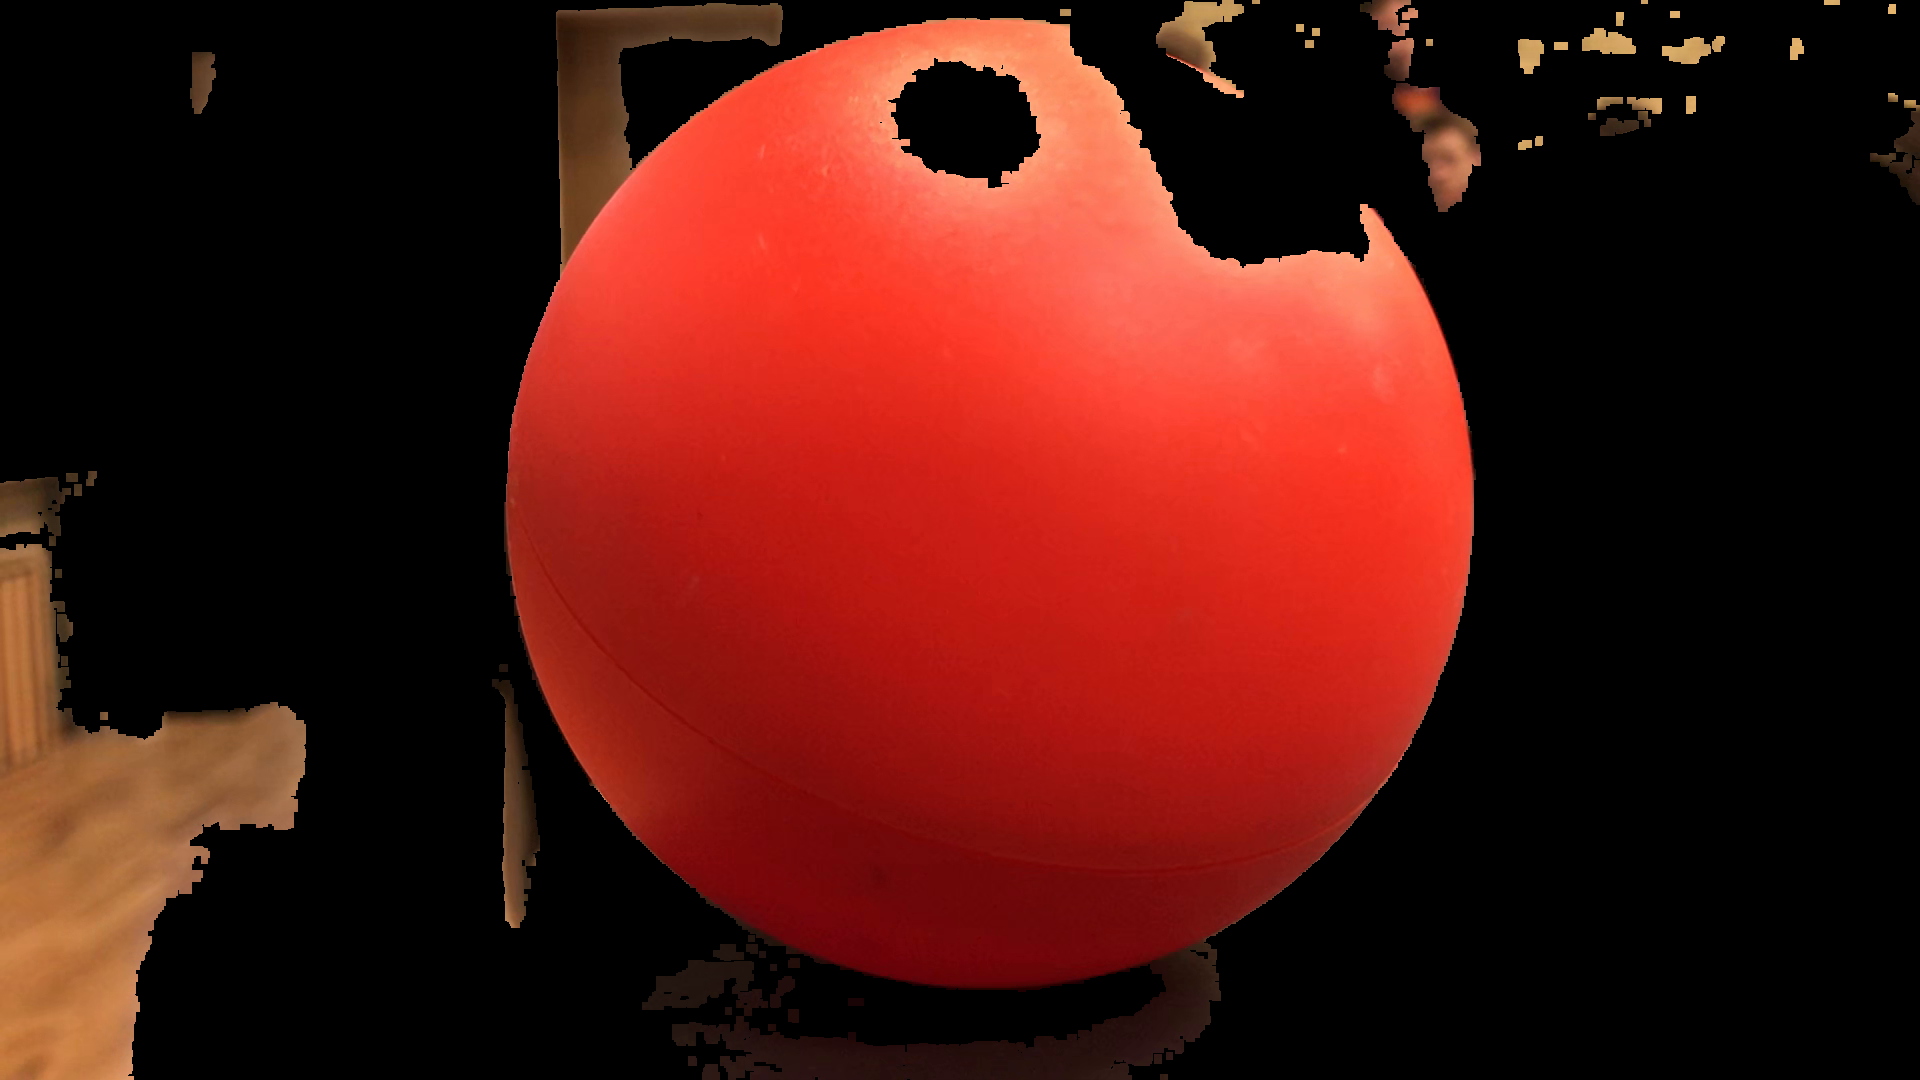Ball: (504, 18, 1484, 988)
